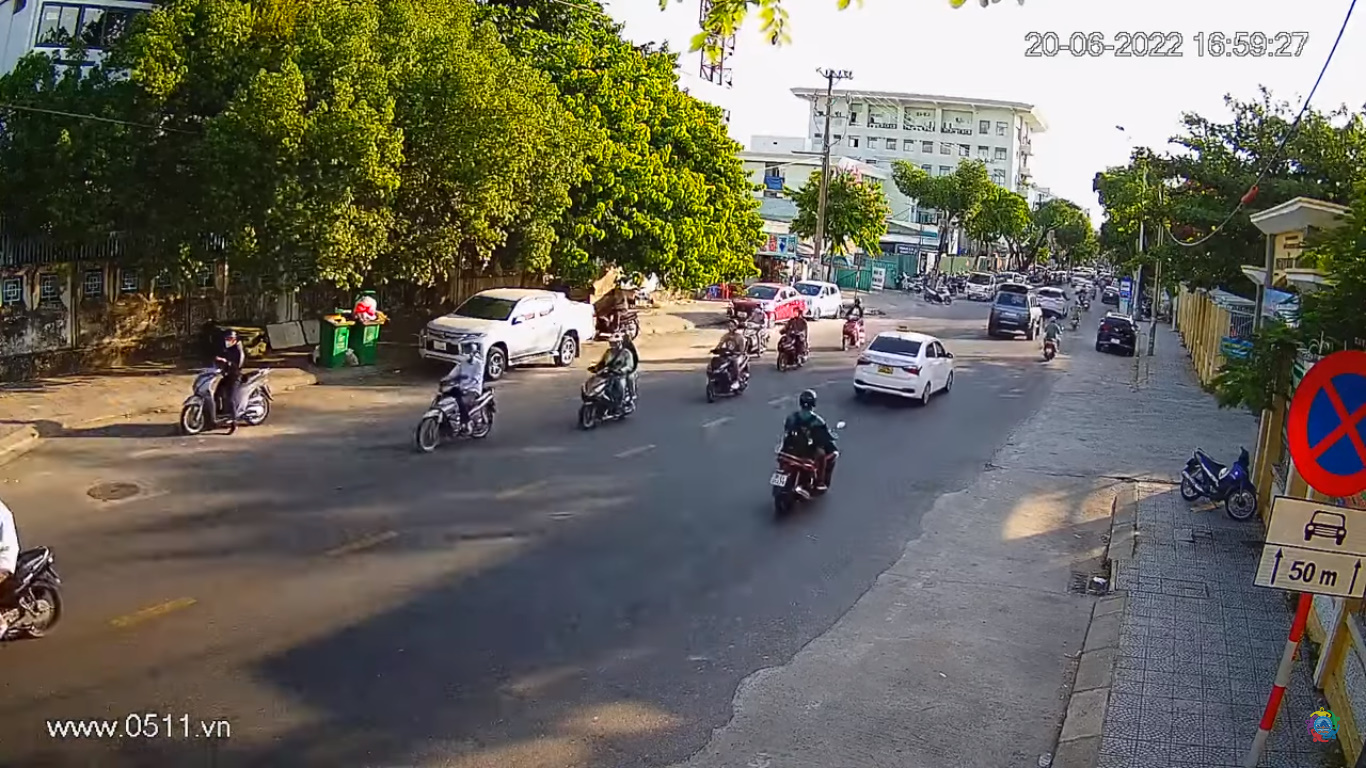car: (852, 324, 956, 412)
